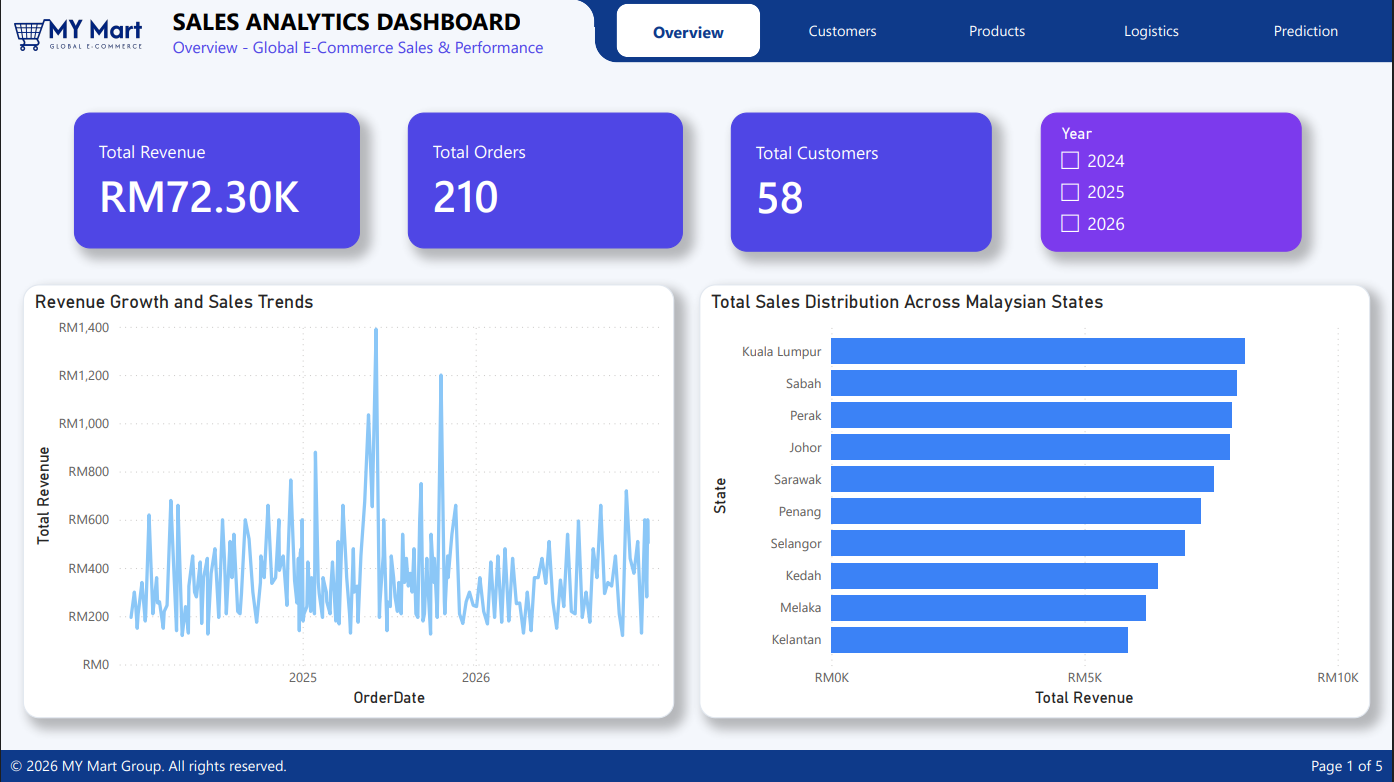

This screenshot's page, from the dashboard's own definition file:
{"tool":"powerbi","page":{"name":"Overview","canvas":[1280,720],"ordinal":0},"visuals":[{"type":"shape","title":"NaviTop3","box":[0,0,567,25.3],"z":0},{"type":"shape","title":"NaviTop2","box":[546.5,0,733.5,57.9],"z":1000},{"type":"shape","title":"NaviTop1","box":[0,0,546.5,57.9],"z":2000},{"type":"shape","box":[0,690,1280,30],"z":3000},{"type":"textbox","box":[154.4,0,372.8,65.1],"z":4000},{"type":"pageNavigator","box":[567,0,704.6,57.9],"z":5000},{"type":"cardVisual","fields":{"Data":["MY_Mart_Sales_Data.Total Revenue"]},"box":[67.6,104.3,262.5,125],"z":6000},{"type":"cardVisual","fields":{"Data":["MY_Mart_Sales_Data.Total Orders"]},"box":[374.8,104.3,252.5,125],"z":7000},{"type":"cardVisual","fields":{"Data":["MY_Mart_Sales_Data.Total Customers"]},"box":[672,104.3,240,128],"z":8000},{"type":"lineChart","title":"Revenue Growth and Sales Trends","fields":{"Category":["MY_Mart_Sales_Data.OrderDate.Variation.Date Hierarchy.Year"],"Y":["MY_Mart_Sales_Data.Total Revenue"]},"box":[21,262,599,399],"z":9000},{"type":"clusteredBarChart","title":"Total Sales Distribution Across Malaysian States","fields":{"Category":["MY_Mart_Sales_Data.State"],"Y":["MY_Mart_Sales_Data.Total Revenue"]},"box":[643,262,617,399],"z":10000},{"type":"slicer","fields":{"Values":["CalendarTable.Date.Variation.Date Hierarchy.Year"]},"box":[956.7,104.3,240.1,127.9],"z":11000},{"type":"image","box":[13.3,0,117,65.1],"z":12000},{"type":"textbox","box":[3.6,689.8,639.4,30.2],"z":13000},{"type":"textbox","box":[635.8,689.8,640.6,30.2],"z":14000}]}

Visuals, with their boxes in screenshot pixels (x1, y1, x2, y2), scaled from the page's 1280x720 canvas onto the 1394x782 screenshot:
"NaviTop3" shape: 0/0/617/27
"NaviTop2" shape: 595/0/1393/63
"NaviTop1" shape: 0/0/595/63
shape: 0/749/1393/781
textbox: 168/0/574/71
pageNavigator: 617/0/1385/63
cardVisual - MY_Mart_Sales_Data.Total Revenue: 74/113/359/249
cardVisual - MY_Mart_Sales_Data.Total Orders: 408/113/683/249
cardVisual - MY_Mart_Sales_Data.Total Customers: 732/113/993/252
"Revenue Growth and Sales Trends" lineChart: 23/285/675/718
"Total Sales Distribution Across Malaysian States" clusteredBarChart: 700/285/1372/718
slicer - CalendarTable.Date.Variation.Date Hierarchy.Year: 1042/113/1303/252
image: 14/0/142/71
textbox: 4/749/700/781
textbox: 692/749/1390/781
